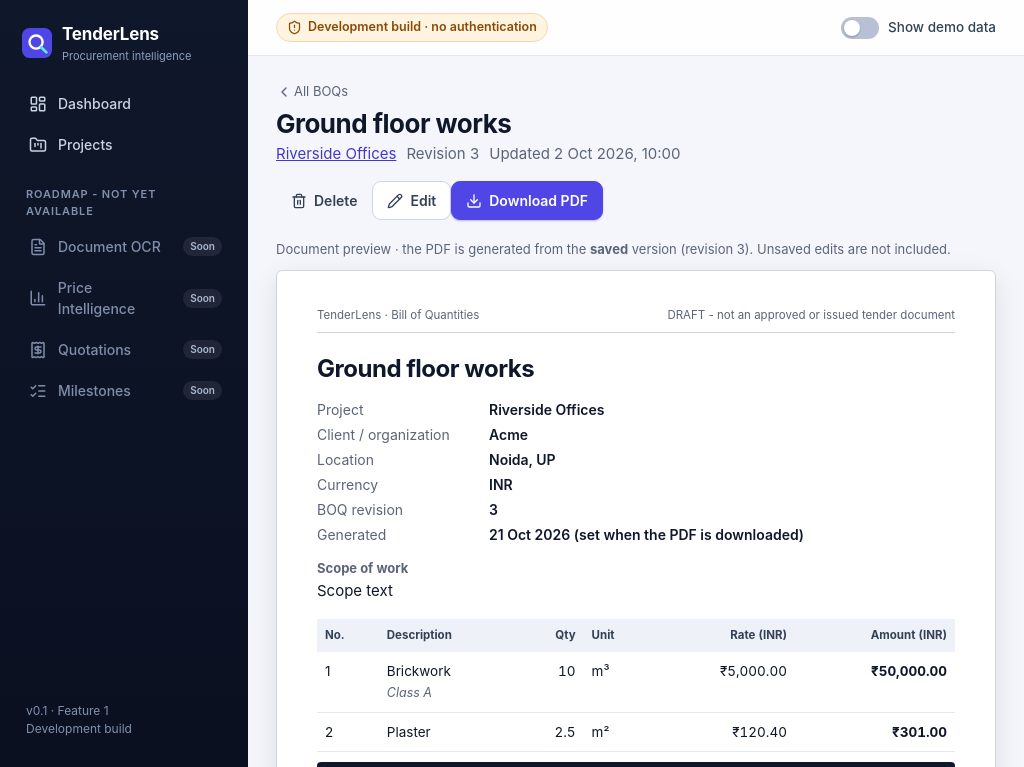
BOQ preview, PDF download and delete › shows the server reason when generation fails (e.g. unsupported characters) and never claims success
Click the button "Download PDF". click: (527, 201)
box: 451,181 -> 603,220
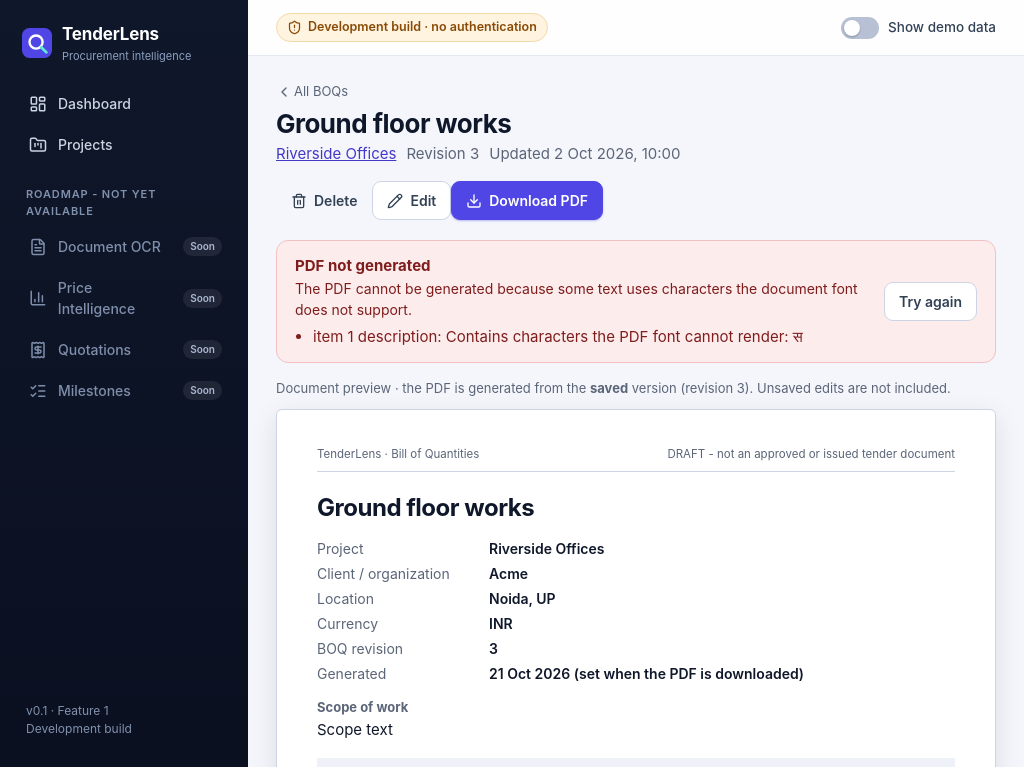
Result: the message shows "PDF not generated" at 295,256 -> 430,275
Result: the message shows "item 1 description" at 313,327 -> 803,346
